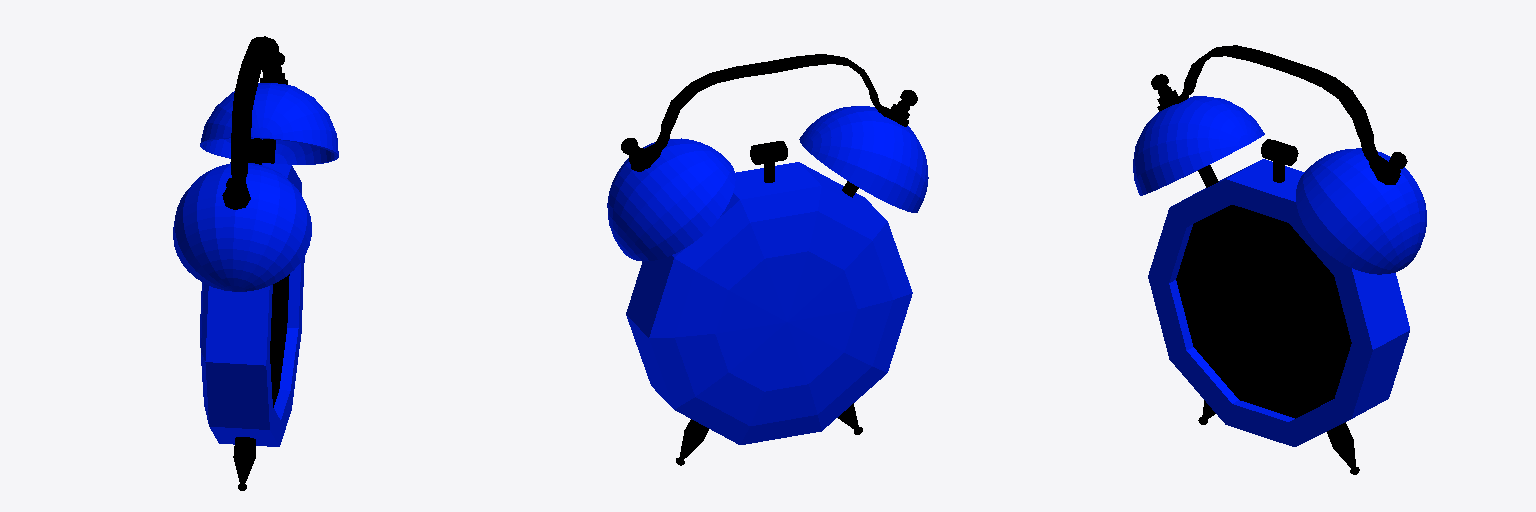
Rendered from clock.obj.
3 renders of one model, left to right at view 1: azimuth 30°, elevation 25°; view 2: azimuth 150°, elevation 25°; view 3: azimuth 270°, elevation 25°, orthographic.
Visible parts, largest first — view 1: pPipe7, textureEditorIsolateSelectSet pPipe7; view 2: pPipe7; view 3: pPipe7, textureEditorIsolateSelectSet pPipe7.
Boxes of the visible parts, <box> form: pPipe7: <box>173,36,338,490</box>; textureEditorIsolateSelectSet pPipe7: <box>270,274,289,407</box>; pPipe7: <box>607,54,928,465</box>; pPipe7: <box>1133,45,1426,474</box>; textureEditorIsolateSelectSet pPipe7: <box>1176,205,1351,418</box>.
Size of the model in its own units: 10.59 by 17.5 by 12.02.